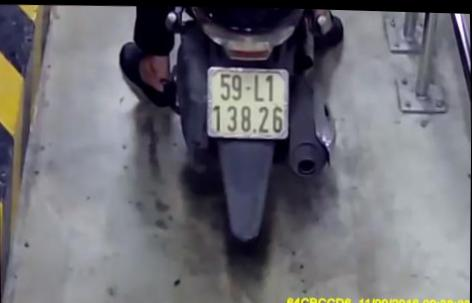LP: (206, 62, 291, 140)
